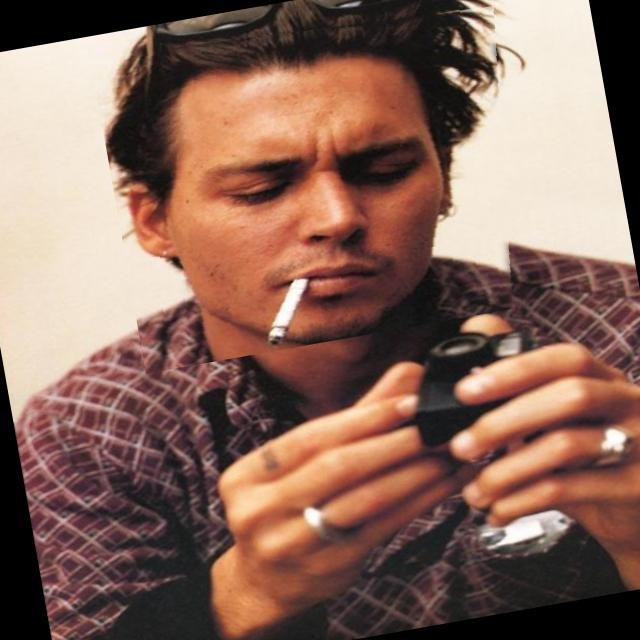cigarette: (256, 248, 354, 356)
